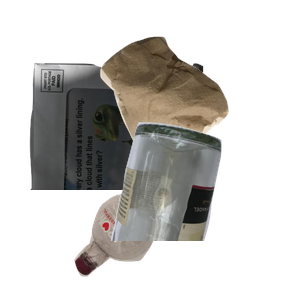glass: (109, 120, 300, 300)
paper: (27, 60, 223, 240)
plastic: (72, 142, 273, 300)
trash: (98, 34, 300, 211)
